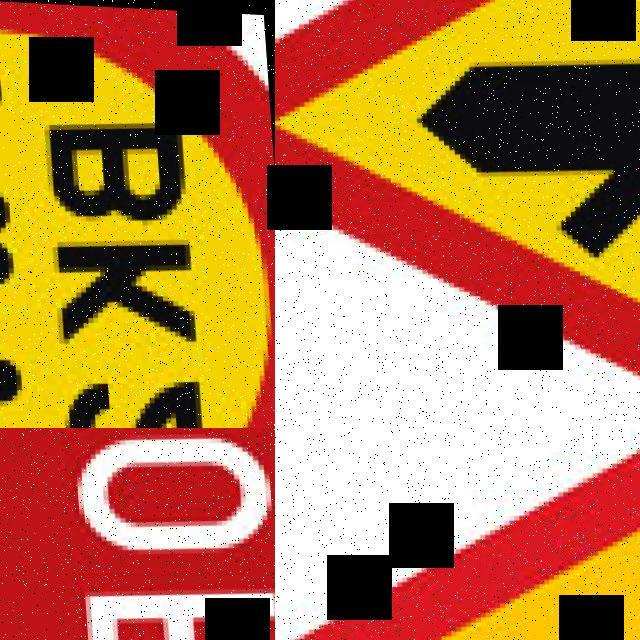15: (0, 0, 275, 428)
166: (275, 0, 640, 428), (275, 428, 640, 640)
Stop: (0, 428, 275, 640)
